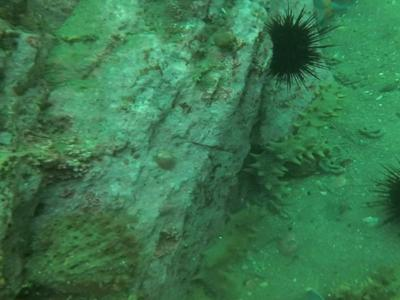holothurian: (243, 133, 312, 198), (199, 203, 262, 267), (292, 85, 335, 153)
urchin: (256, 2, 344, 96), (364, 157, 397, 235)
